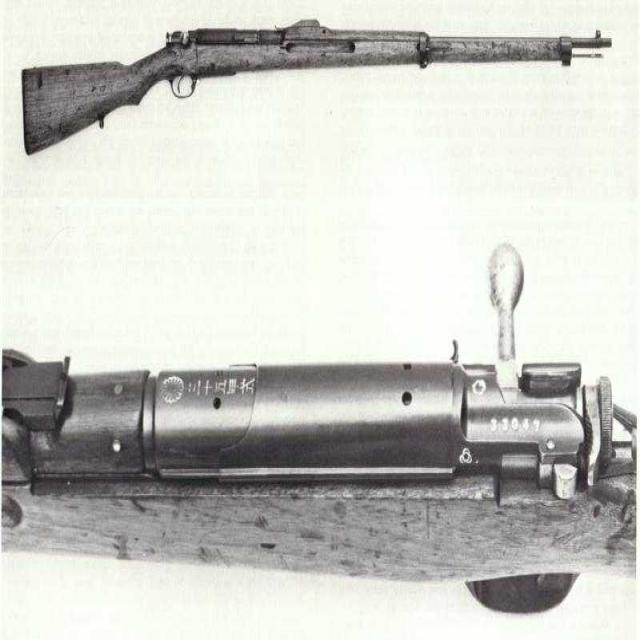heavyweapon: (1, 257, 634, 618), (18, 9, 618, 194)
